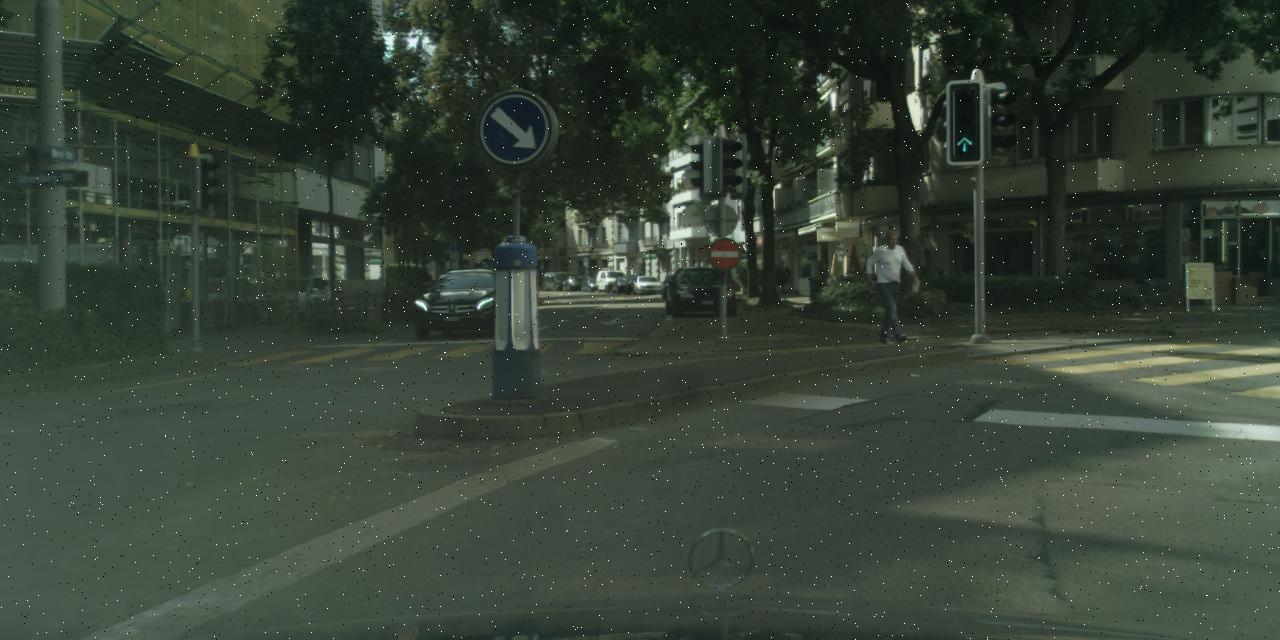ped: (870, 228, 916, 340)
